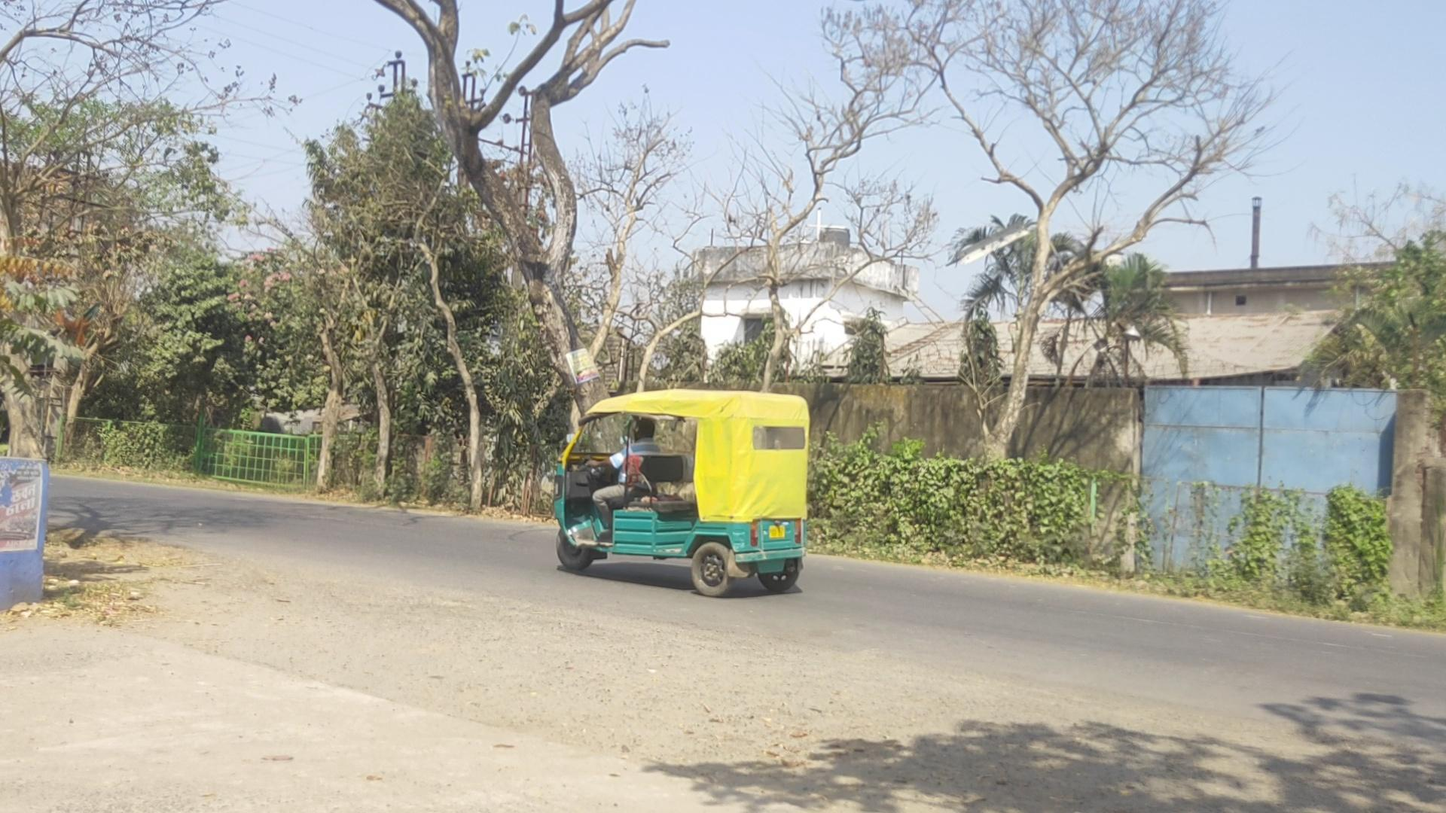Auto: (554, 389, 809, 597)
